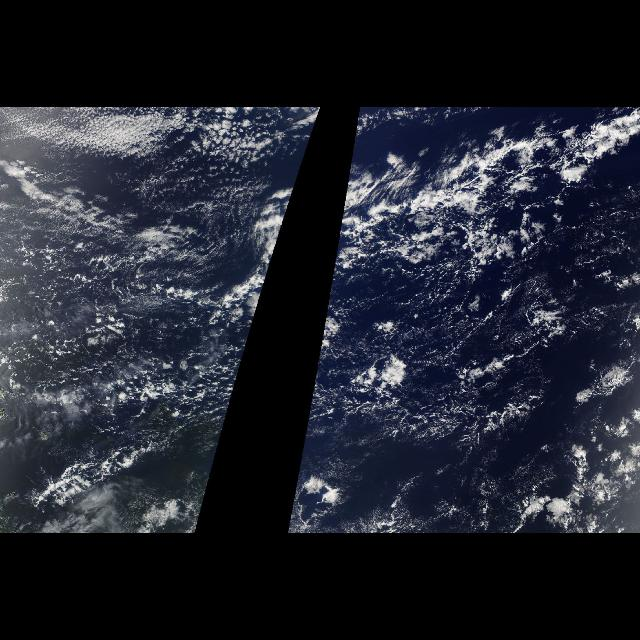Gravel: (0, 237, 280, 441), (304, 237, 544, 441)
Sugar: (4, 111, 248, 281)
